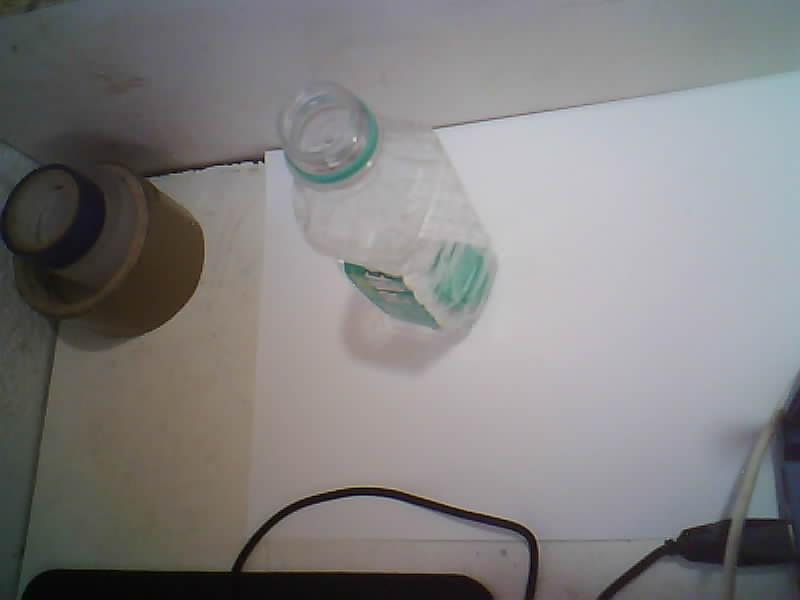non-biodegradable: (277, 82, 496, 332)
